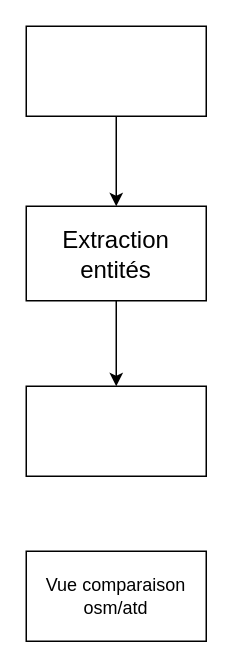
The diagram is 233 pixels wide and 668 high, and some of its shapes have lost their labels. The centre of each missing label's shape, as x and y in pixels:
"Download overpass" goes at (x=115, y=70).
"Intégration base. Replace" goes at (x=115, y=430).
